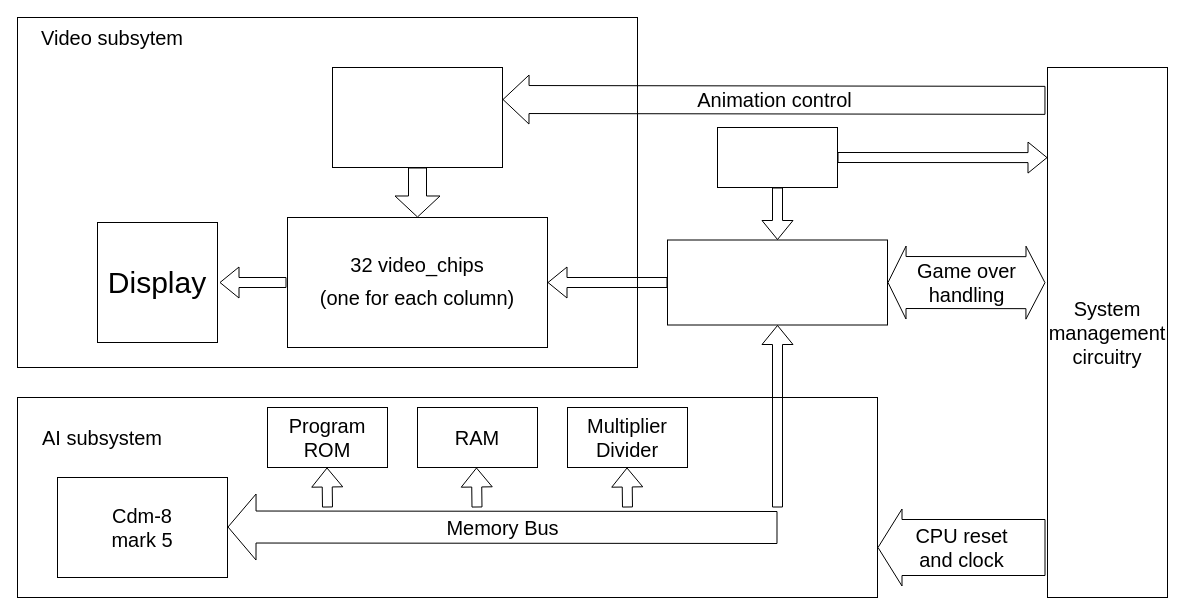
This 1185x615 diagram has some shape labels left out. The shapes that lost their labels are listed below. From the top down, each one's box as (x1, y1, x2, y2) in pixels, then its label:
(332, 66, 502, 168): video_player to play animation
(716, 126, 838, 188): Gamepad
(666, 239, 888, 325): Kinematic controller gameplay calculation
